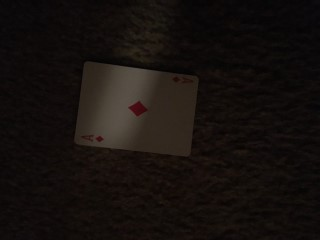AceOfDiamonds: (74, 61, 199, 157)
